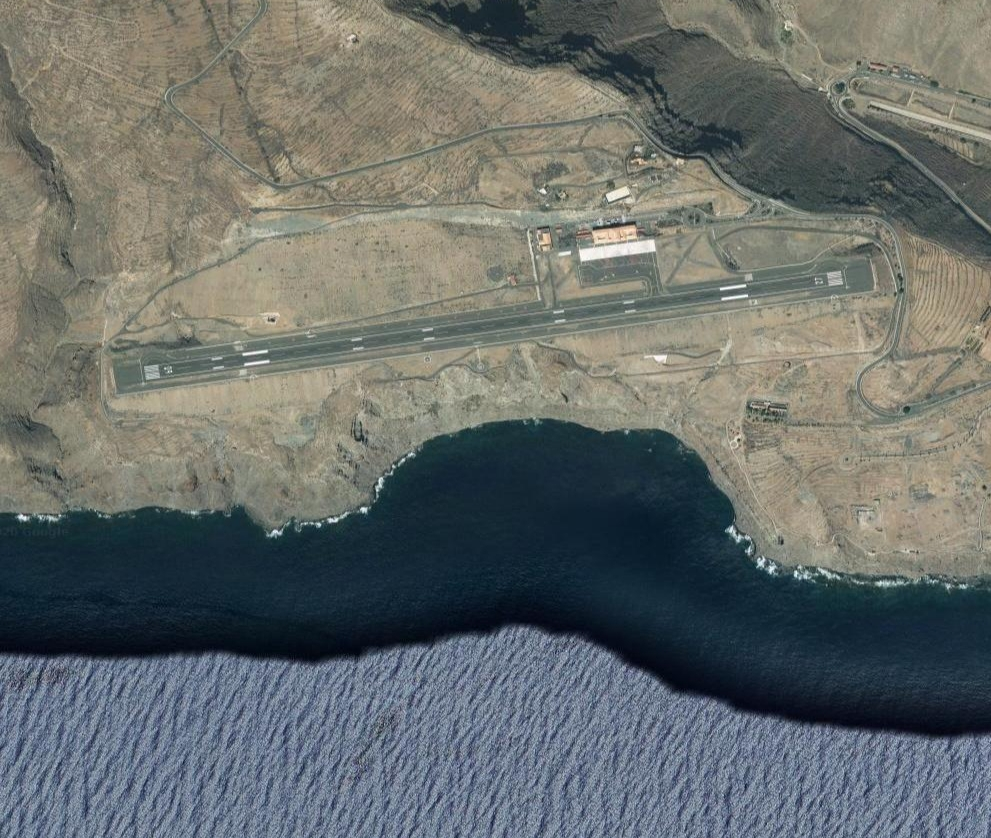airport: (110, 219, 879, 402)
motorway: (214, 144, 313, 195), (812, 67, 883, 137), (314, 146, 418, 190), (418, 116, 522, 160), (522, 100, 626, 144), (162, 73, 224, 145), (208, 1, 270, 72), (865, 122, 934, 182), (928, 181, 991, 241), (888, 388, 991, 422)
